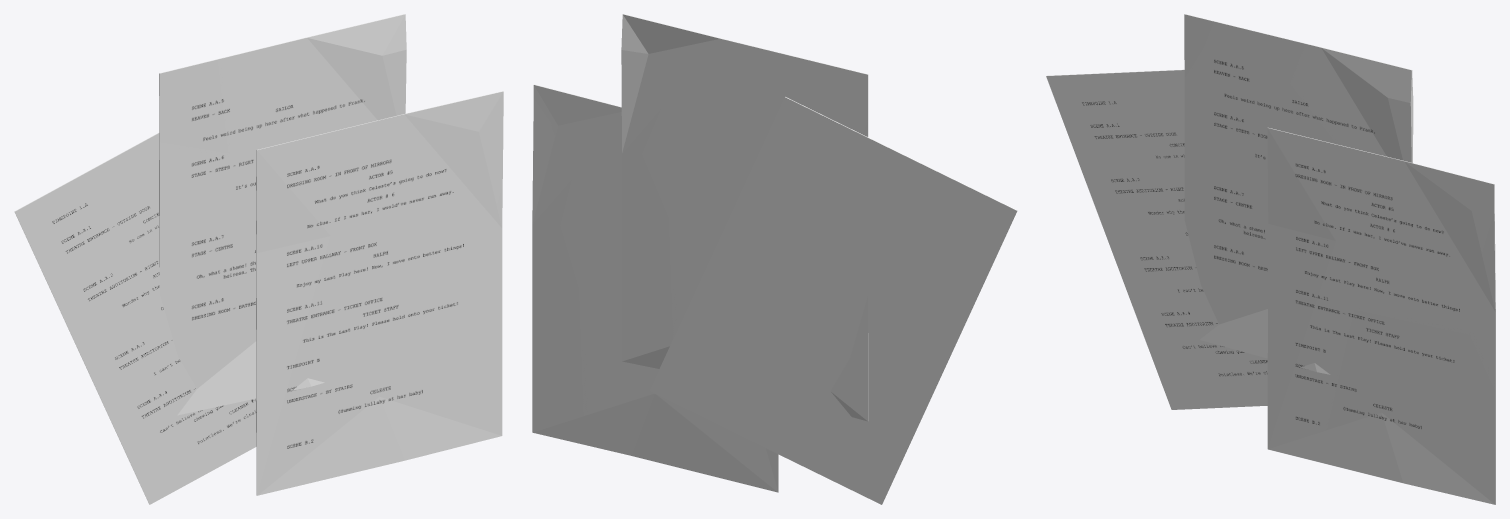
File: script.glb
3 views of the same model, side by side, from view 1: azimuth 30°, elevation 25°; view 2: azimuth 150°, elevation 25°; view 3: azimuth 330°, elevation 25° (orthographic). The views are drawn at different scales.
Parts seen in each view (by area): view 1: script_3, script_2, script_1; view 2: script_1, script_2, script_3; view 3: script_3, script_2, script_1.
Part boxes in pixels (x1,y1,x2,y2): script_3: (256,91,503,495); script_2: (159,14,406,415); script_1: (14,133,256,504); script_1: (649,97,1017,504); script_2: (621,14,868,421); script_3: (532,84,778,492); script_3: (1267,127,1495,504); script_2: (1184,14,1413,374); script_1: (1046,69,1267,409).
Bounding box in the file's own units: 0.3979 × 0.3463 × 0.0128.
Materials: 4 (3 with a texture image).
